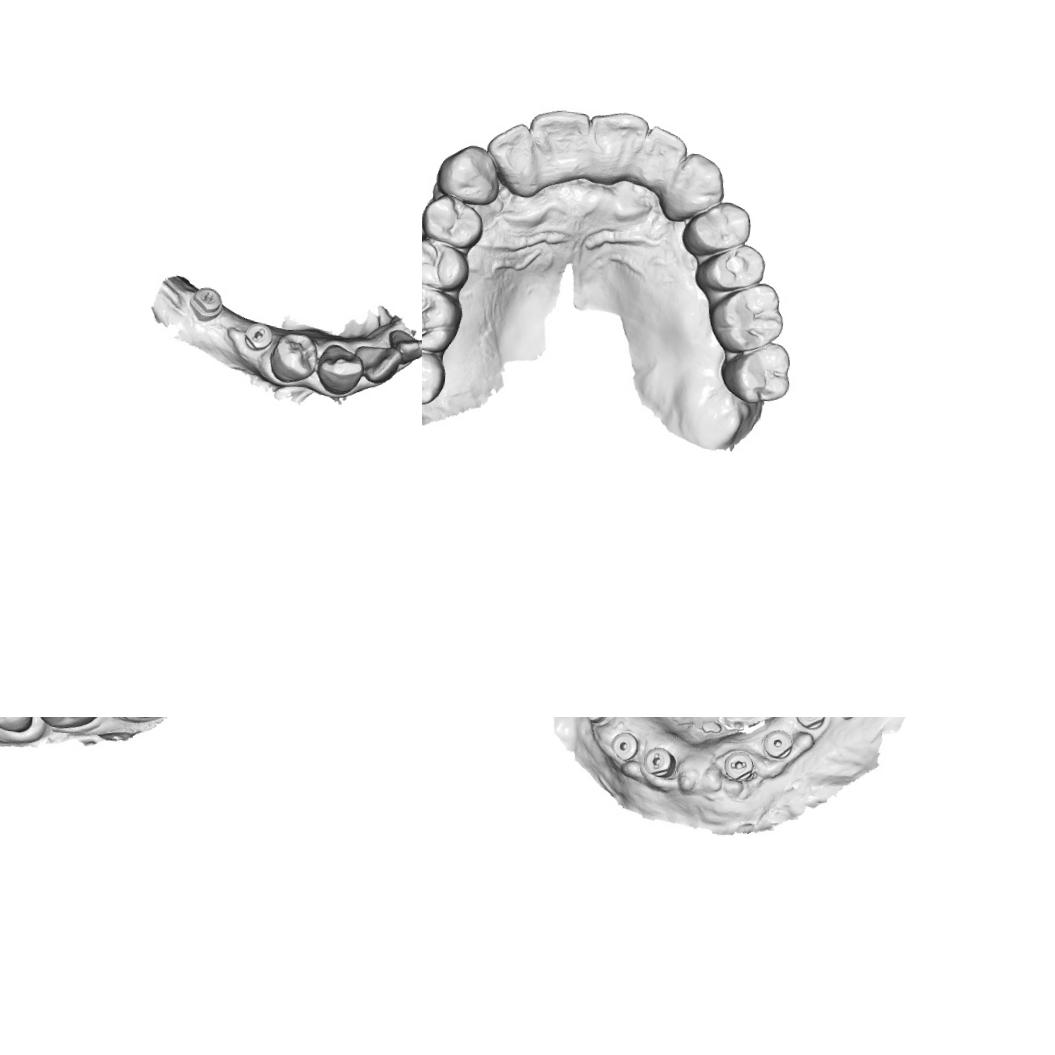canine: (660, 148, 728, 224), (433, 141, 502, 206), (313, 342, 366, 396)
implant: (760, 728, 794, 760), (608, 729, 639, 763), (792, 717, 827, 730), (578, 717, 612, 726)
implant_minus: (187, 284, 224, 322), (720, 748, 758, 784), (640, 745, 677, 780), (242, 320, 274, 352)
incisor: (524, 105, 590, 188), (584, 106, 650, 188), (482, 119, 542, 198), (638, 123, 689, 194), (350, 342, 403, 386), (383, 327, 422, 366)
molar: (705, 278, 787, 356), (716, 338, 793, 406), (422, 280, 464, 355), (422, 340, 448, 406)
premolar: (678, 196, 752, 260), (691, 238, 768, 298), (422, 191, 485, 250), (266, 329, 320, 385), (422, 233, 473, 292)
